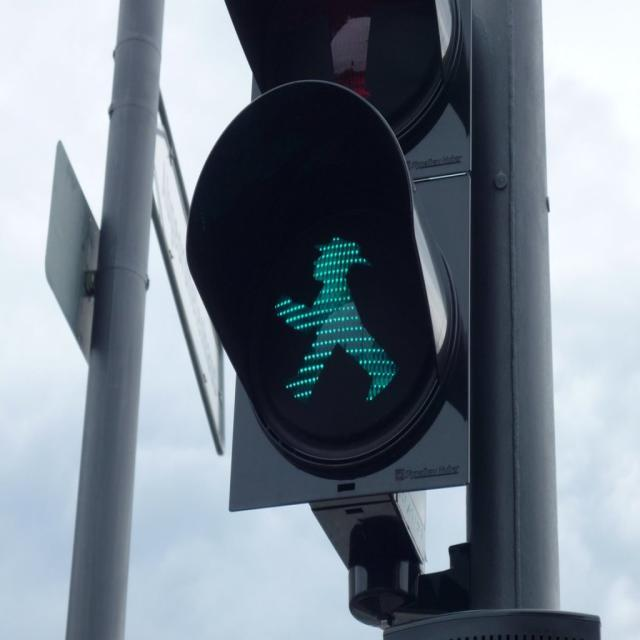traffic light: (199, 0, 505, 485)
